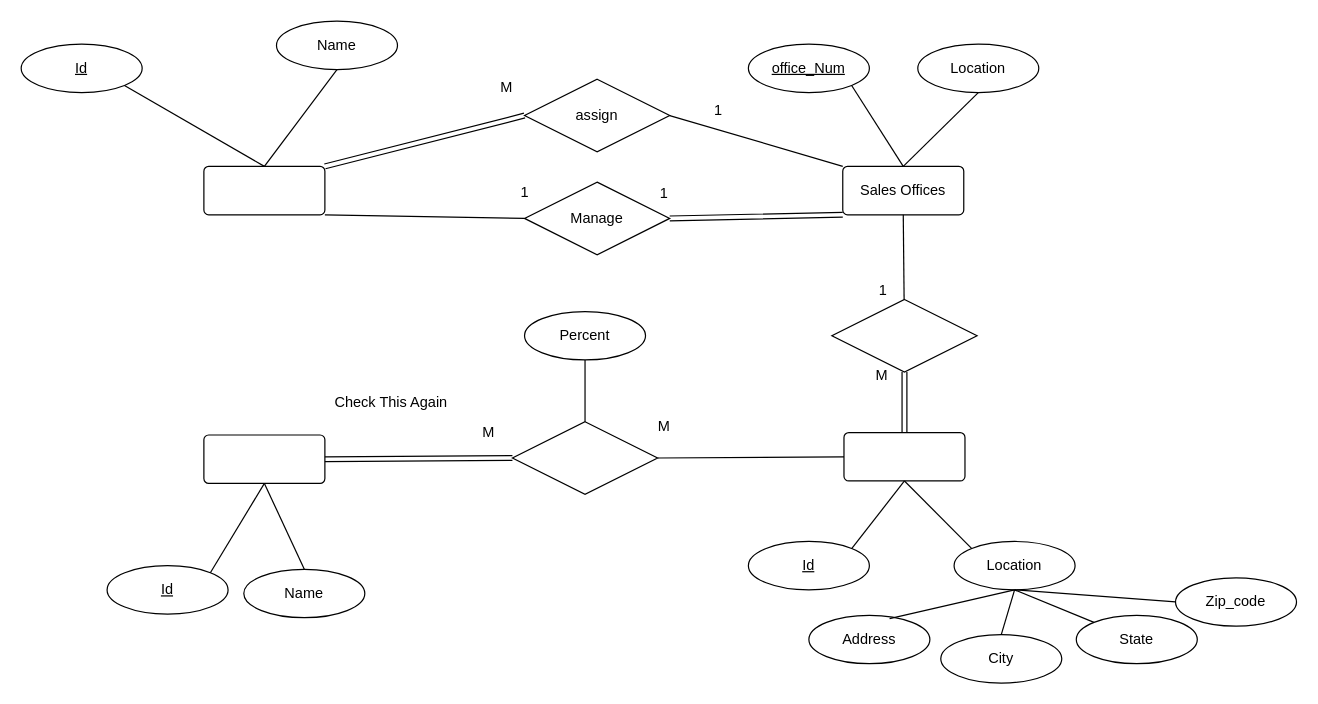
Some shapes in this 1318 by 704 pixel diagram are drawn without their labels. The centre of each missing label's shape, as x and y in pixels:
"Employee" belongs at (x=264, y=190).
"Have" belongs at (x=584, y=457).
"list_to" belongs at (x=904, y=335).
"Owner" belongs at (x=264, y=458).
"Property" belongs at (x=904, y=456).
